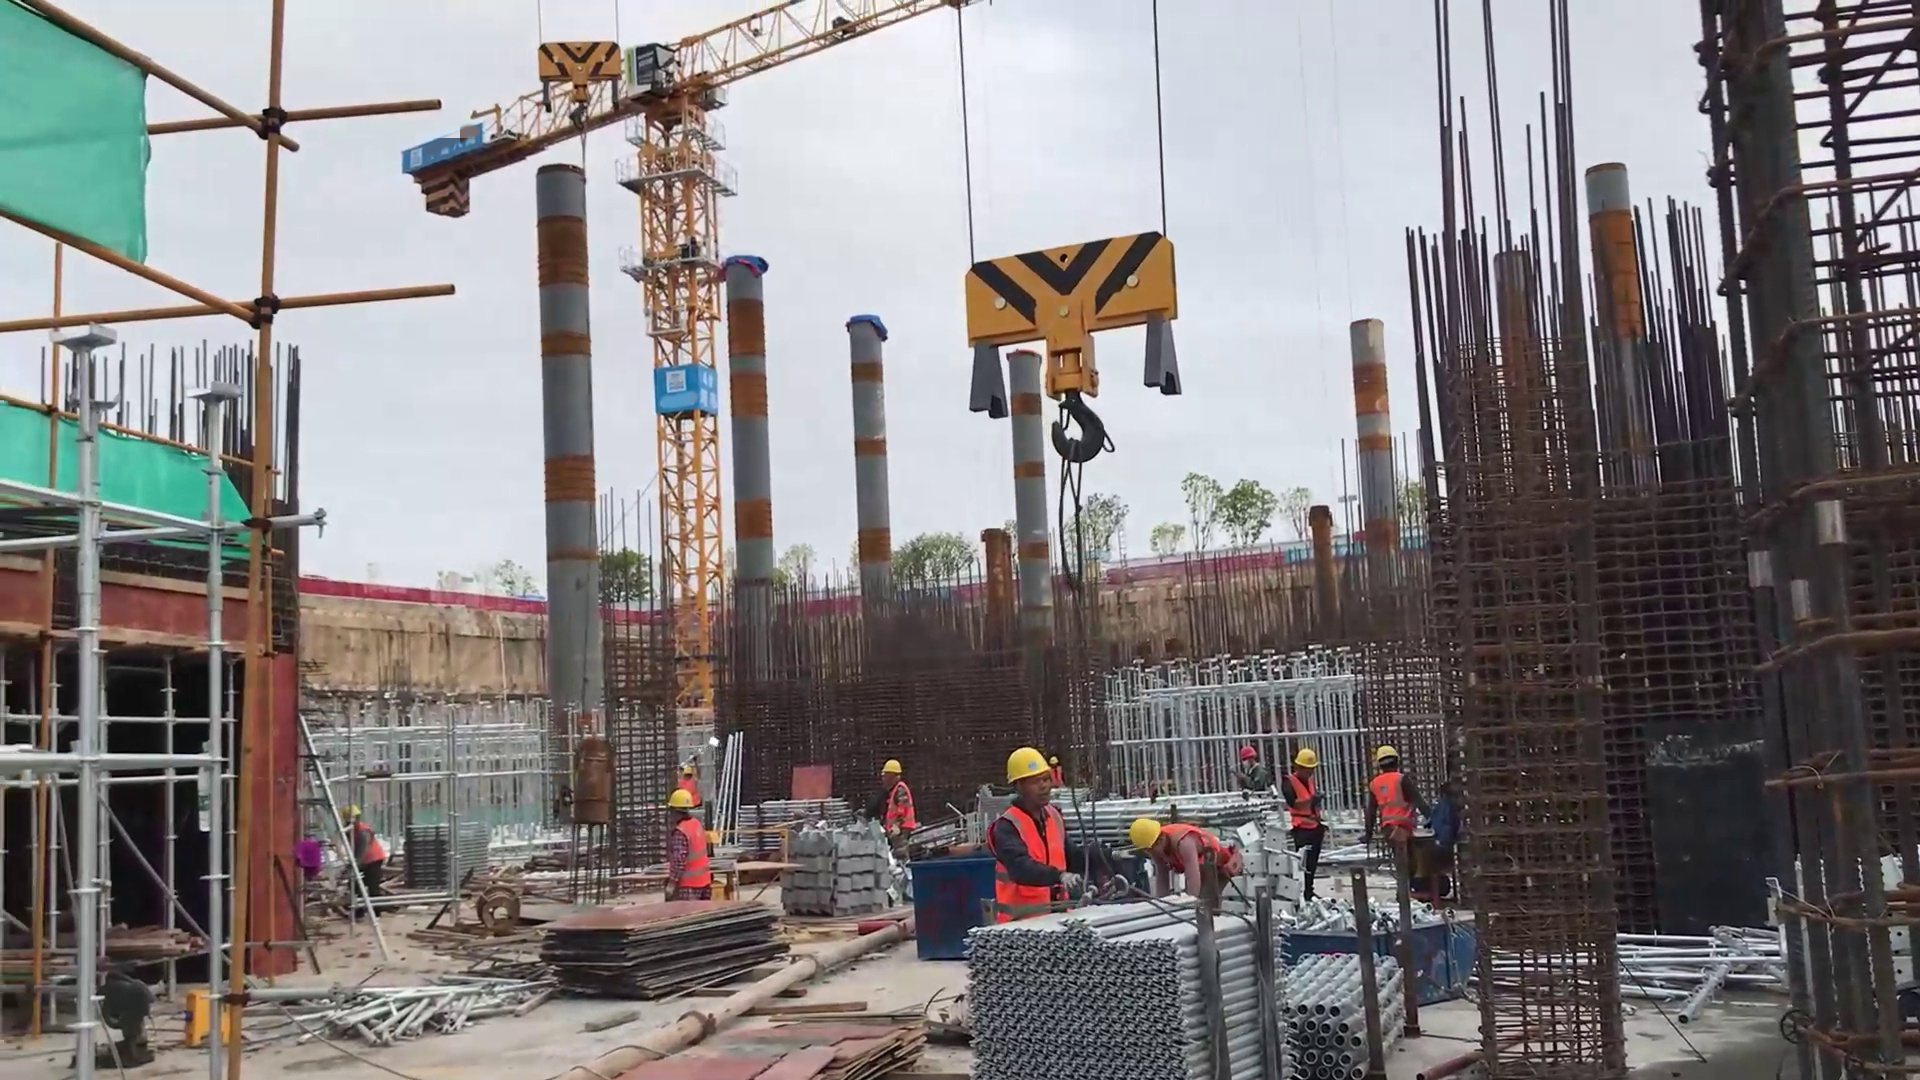board: (542, 887, 785, 993)
helmet: (666, 771, 715, 819), (1121, 808, 1178, 847), (1005, 742, 1055, 785), (1367, 727, 1415, 766), (1294, 745, 1319, 777)
hook: (953, 212, 1200, 472), (517, 18, 626, 120)
hopper: (1283, 897, 1495, 1015)
scaffold: (951, 862, 1304, 1080), (1259, 847, 1429, 1073)
